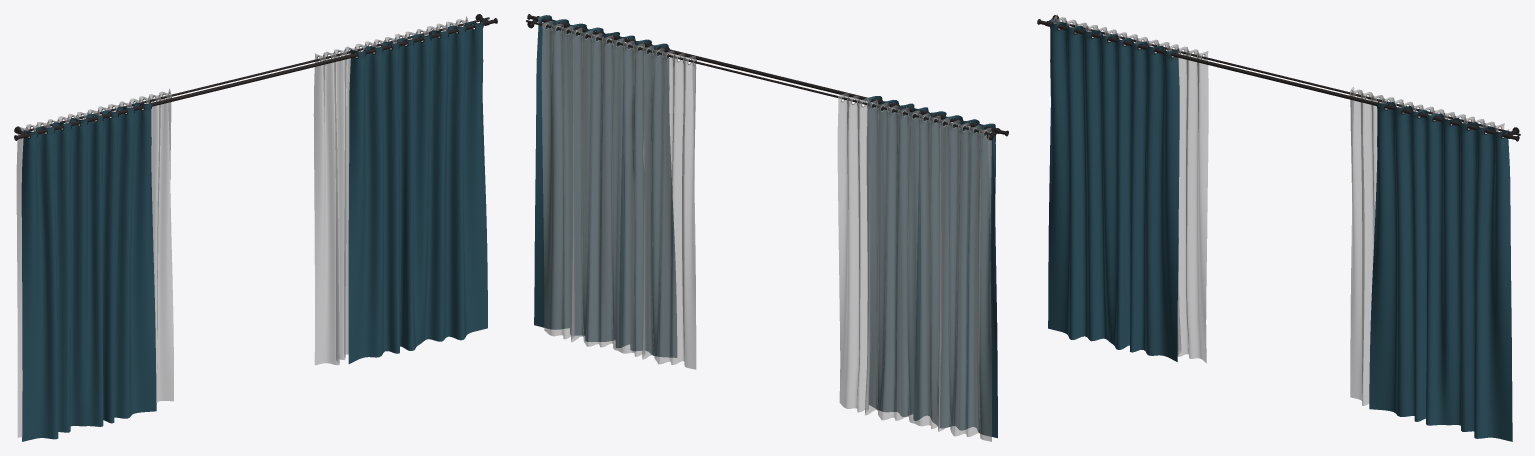
Rendered from 2_layer_curtain_with_role_box_curtain.glb.
3 views of the same model, side by side, from view 1: azimuth 30°, elevation 25°; view 2: azimuth 150°, elevation 25°; view 3: azimuth 330°, elevation 25° (orthographic).
Visible parts, largest first — view 1: Object_2, Object_4, Object_3; view 2: Object_2, Object_3, Object_4; view 3: Object_2, Object_4, Object_3.
Boxes of the visible parts, left/top/right/bottom form: Object_2: left=15, top=14, right=497, bottom=441; Object_4: left=27, top=21, right=464, bottom=365; Object_3: left=14, top=16, right=483, bottom=140; Object_2: left=526, top=14, right=1007, bottom=441; Object_3: left=541, top=17, right=1008, bottom=350; Object_4: left=551, top=25, right=996, bottom=369; Object_2: left=1040, top=14, right=1520, bottom=441; Object_4: left=1050, top=22, right=1495, bottom=405; Object_3: left=1037, top=15, right=1505, bottom=138.
Size of the model in its own units: 4.02 by 2.49 by 0.2382.
Materials: 1 (1 with a texture image).
